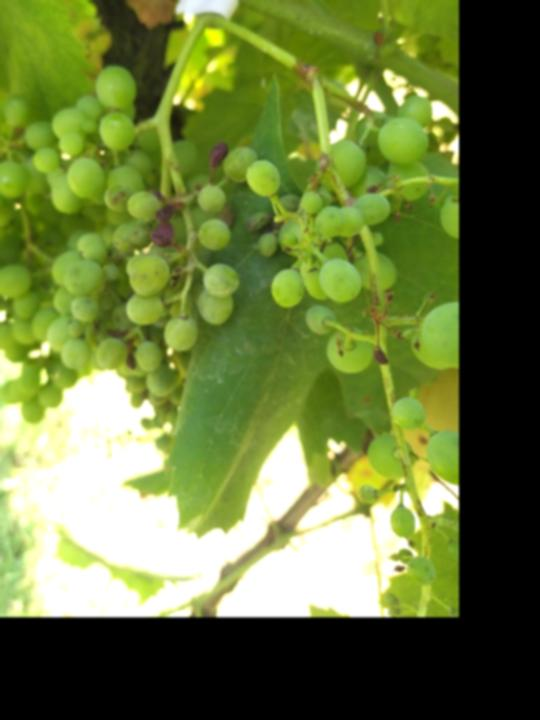grape: (24, 67, 260, 399)
